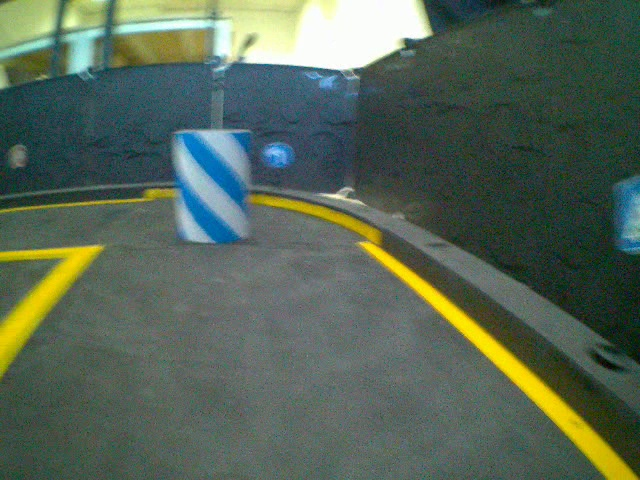bucket: (168, 130, 255, 244)
